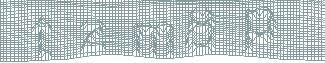8: (183, 6, 218, 55)
m: (130, 21, 175, 59)
p: (244, 6, 277, 57)
t: (30, 16, 54, 61)
z: (79, 18, 106, 53)
